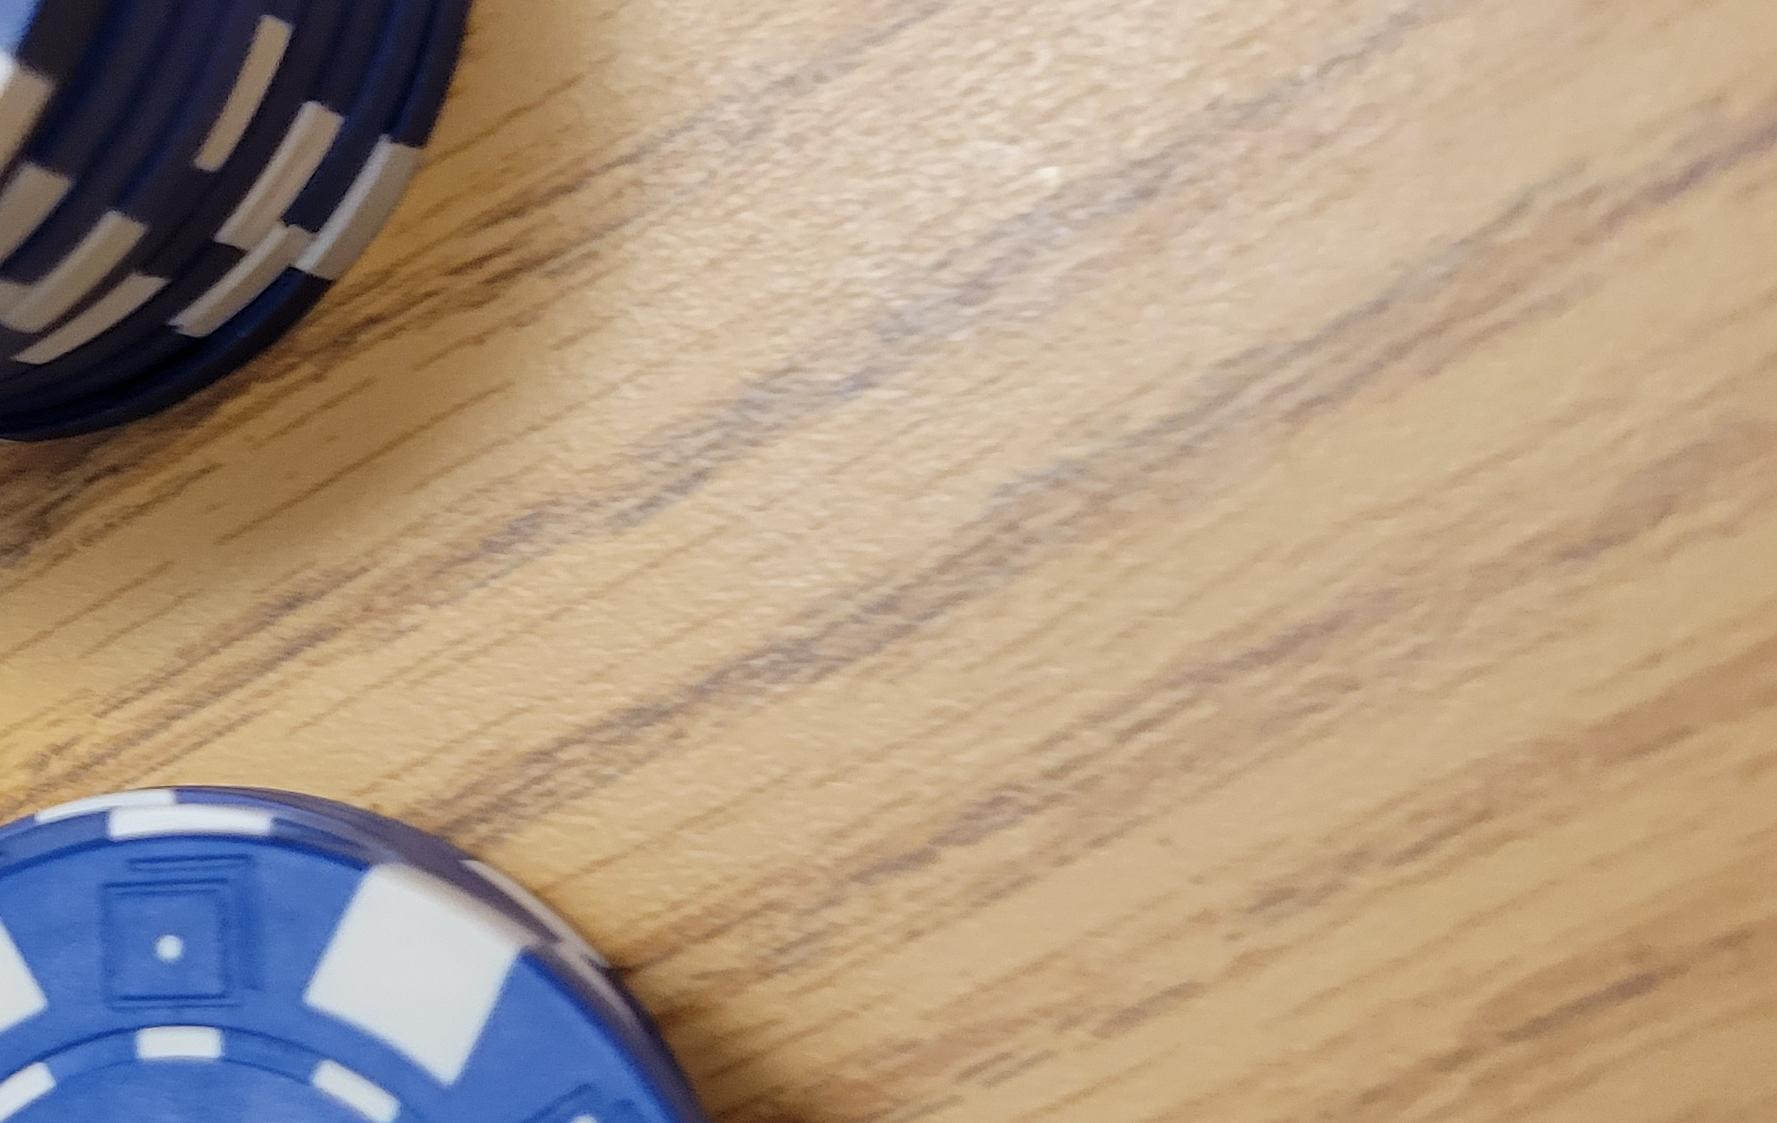Chip: (1, 295, 789, 1123)
